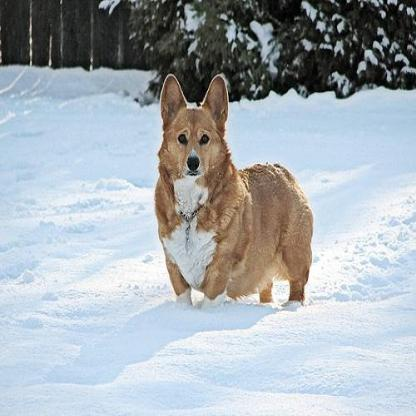Pembroke: (152, 73, 314, 316)
